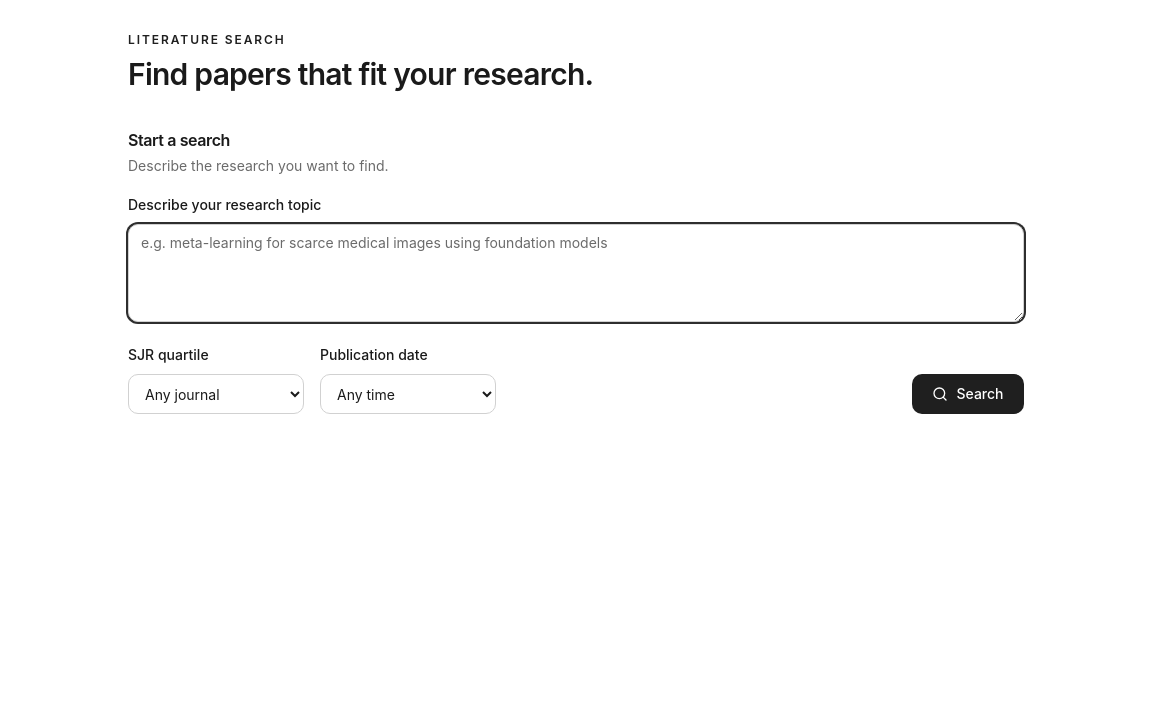
App › submits the research description and displays keywords and every Jev-ranked candidate
This screenshot has width=1164, height=706.
Type "human evaluation of retrieval quality for medical research systems and clinical practice" into the text box labelled "Describe your research topic" at (576, 273), box [128, 224, 1024, 322]
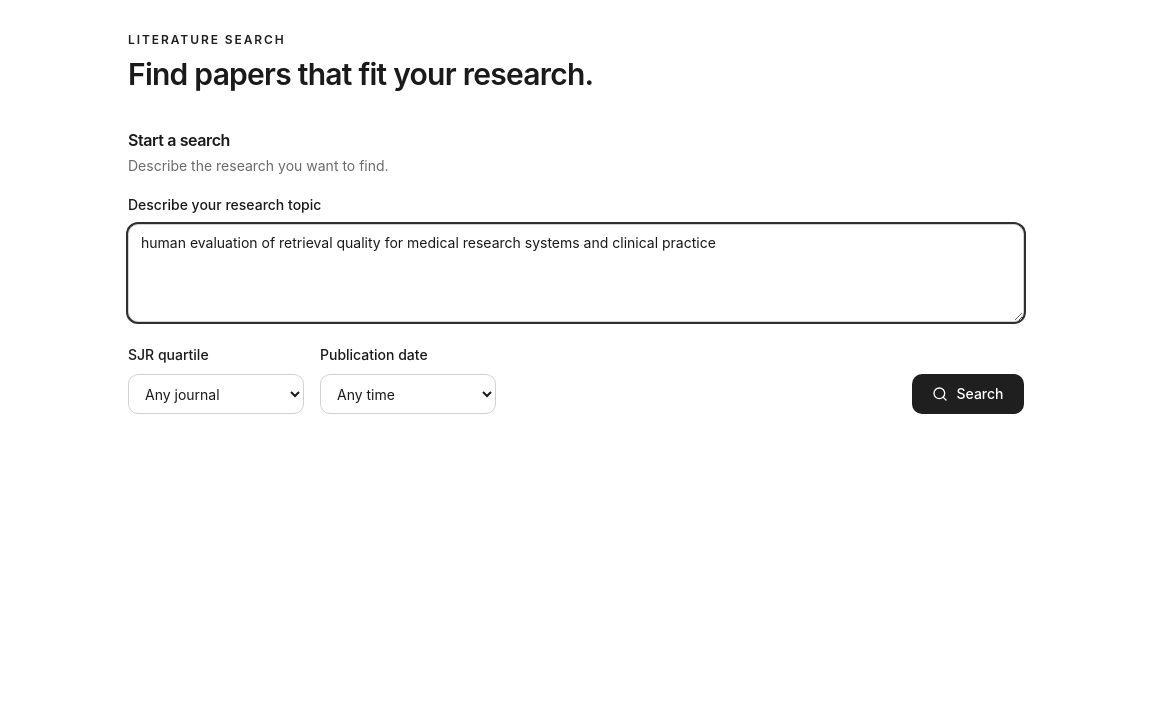
Click the button "Search" at (968, 394), box [912, 374, 1024, 414]
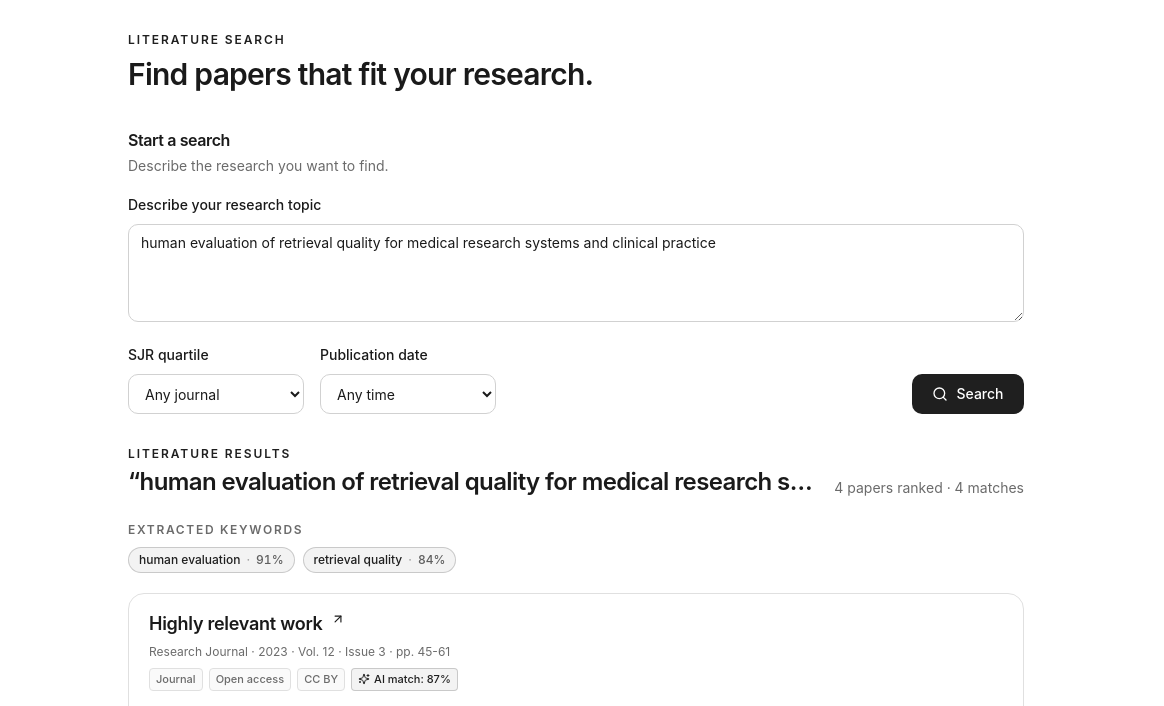
Expected: the heading "Highly relevant work" is shown, [149, 612, 344, 634]
Expected: the text "AI match: 87%" is shown, [351, 668, 458, 690]
Expected: the text "4 papers ranked · 4 matches" is shown, [834, 478, 1024, 498]
